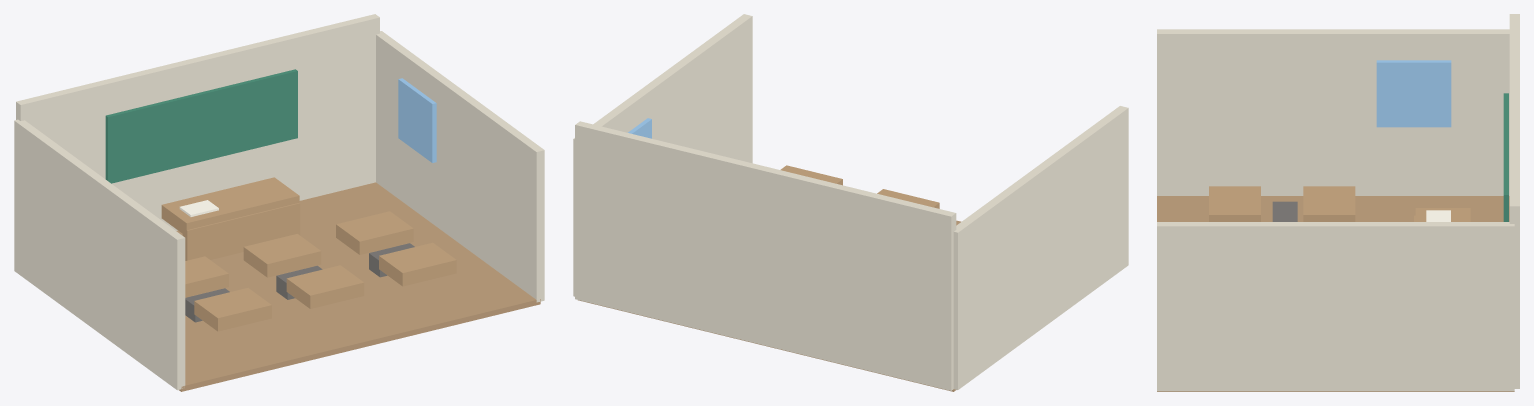
The model's file is classroom.gltf.
The picture shows the model from 3 angles, left to right: view 1: azimuth 30°, elevation 25°; view 2: azimuth 150°, elevation 25°; view 3: azimuth 270°, elevation 25°; orthographic projection. The views are drawn at different scales.
Parts seen in each view (by area): view 1: front-classroom-wall, left-classroom-wall, classroom-floor, right-classroom-wall, wide-chalkboard, teacher-desk-front, teacher-desk-top, right-window, student-desk-center-front, student-desk-center-back, student-desk-right-back, student-desk-right-front (+5 smaller); view 2: front-classroom-wall, left-classroom-wall, right-classroom-wall; view 3: right-classroom-wall, left-classroom-wall, classroom-floor, left-window, front-classroom-wall, student-desk-left-front, student-desk-left-back, wide-chalkboard, chair-left-front, teacher-desk-top.
Boxes of the visible parts, x1,y1,x2,y2 form: front-classroom-wall: [16, 14, 379, 230]; left-classroom-wall: [14, 119, 185, 390]; classroom-floor: [176, 182, 540, 391]; right-classroom-wall: [376, 31, 544, 302]; wide-chalkboard: [105, 69, 297, 183]; teacher-desk-front: [182, 203, 300, 260]; teacher-desk-top: [161, 177, 299, 236]; right-window: [398, 78, 436, 162]; student-desk-center-front: [243, 234, 321, 277]; student-desk-center-back: [286, 265, 364, 308]; student-desk-right-back: [379, 242, 456, 286]; student-desk-right-front: [336, 211, 413, 254]; front-classroom-wall: [575, 121, 956, 390]; left-classroom-wall: [953, 106, 1128, 389]; right-classroom-wall: [573, 14, 752, 296]; right-classroom-wall: [1157, 222, 1514, 391]; left-classroom-wall: [1157, 29, 1509, 195]; classroom-floor: [1157, 196, 1514, 391]; left-window: [1376, 60, 1451, 127]; front-classroom-wall: [1509, 14, 1519, 388]; student-desk-left-front: [1303, 186, 1355, 221]; student-desk-left-back: [1209, 186, 1260, 221]; wide-chalkboard: [1503, 93, 1508, 221]; chair-left-front: [1272, 201, 1297, 221]; teacher-desk-top: [1415, 208, 1470, 221].
Bounding box in the file's own units: 7.16 × 3.15 × 5.58.
